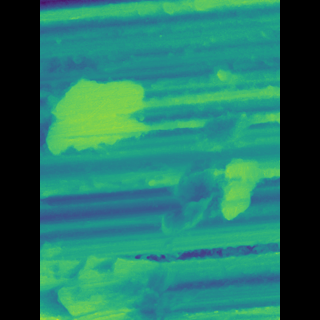Loch: (157, 63, 251, 239), (80, 252, 198, 319), (69, 72, 158, 159), (201, 158, 251, 226)
